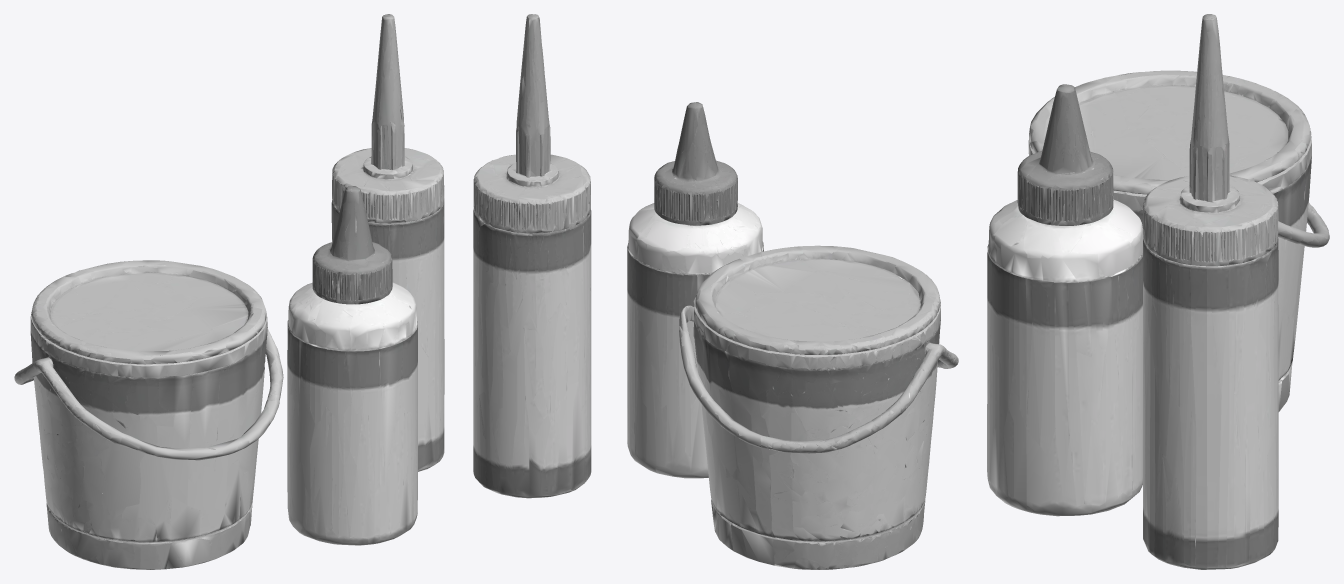
File: EPX-SIK-SIKADUR31IN.glb
3 views of the same model, side by side, from view 1: azimuth 30°, elevation 25°; view 2: azimuth 150°, elevation 25°; view 3: azimuth 270°, elevation 25° (orthographic). The views are drawn at different scales.
Visible parts, largest first — view 1: mesh_node; view 2: mesh_node; view 3: mesh_node.
Part boxes in pixels (box(x1,y1,x2,y2)): mesh_node: box(14, 14, 444, 569); mesh_node: box(473, 14, 958, 569); mesh_node: box(987, 14, 1329, 569).
Bounding box in the file's own units: 0.3 × 0.2994 × 0.1765.
1 material, 1 textured.
